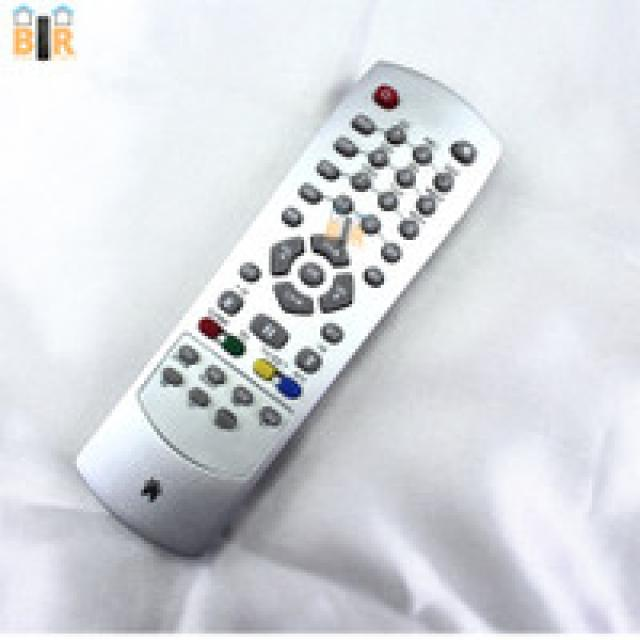remote: (78, 60, 502, 552)
